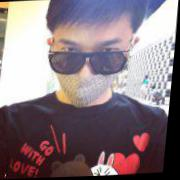WRONG: (50, 25, 133, 111)
